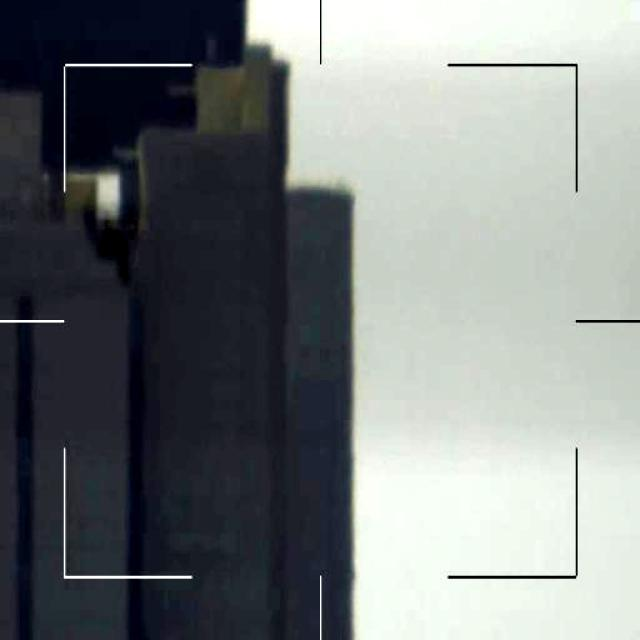bird: (84, 195, 148, 275)
